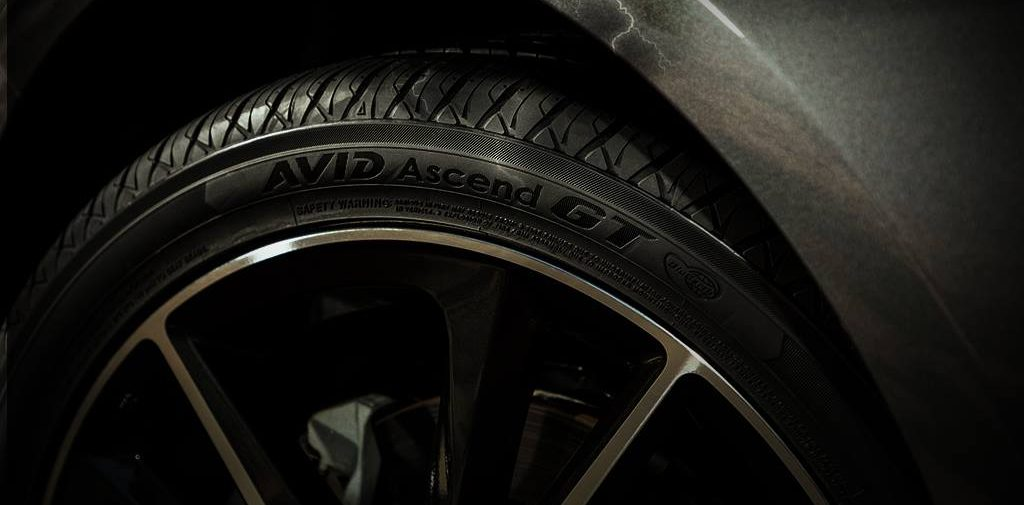tire: (34, 83, 870, 502)
